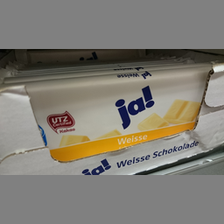chocolate: (3, 68, 218, 161)
